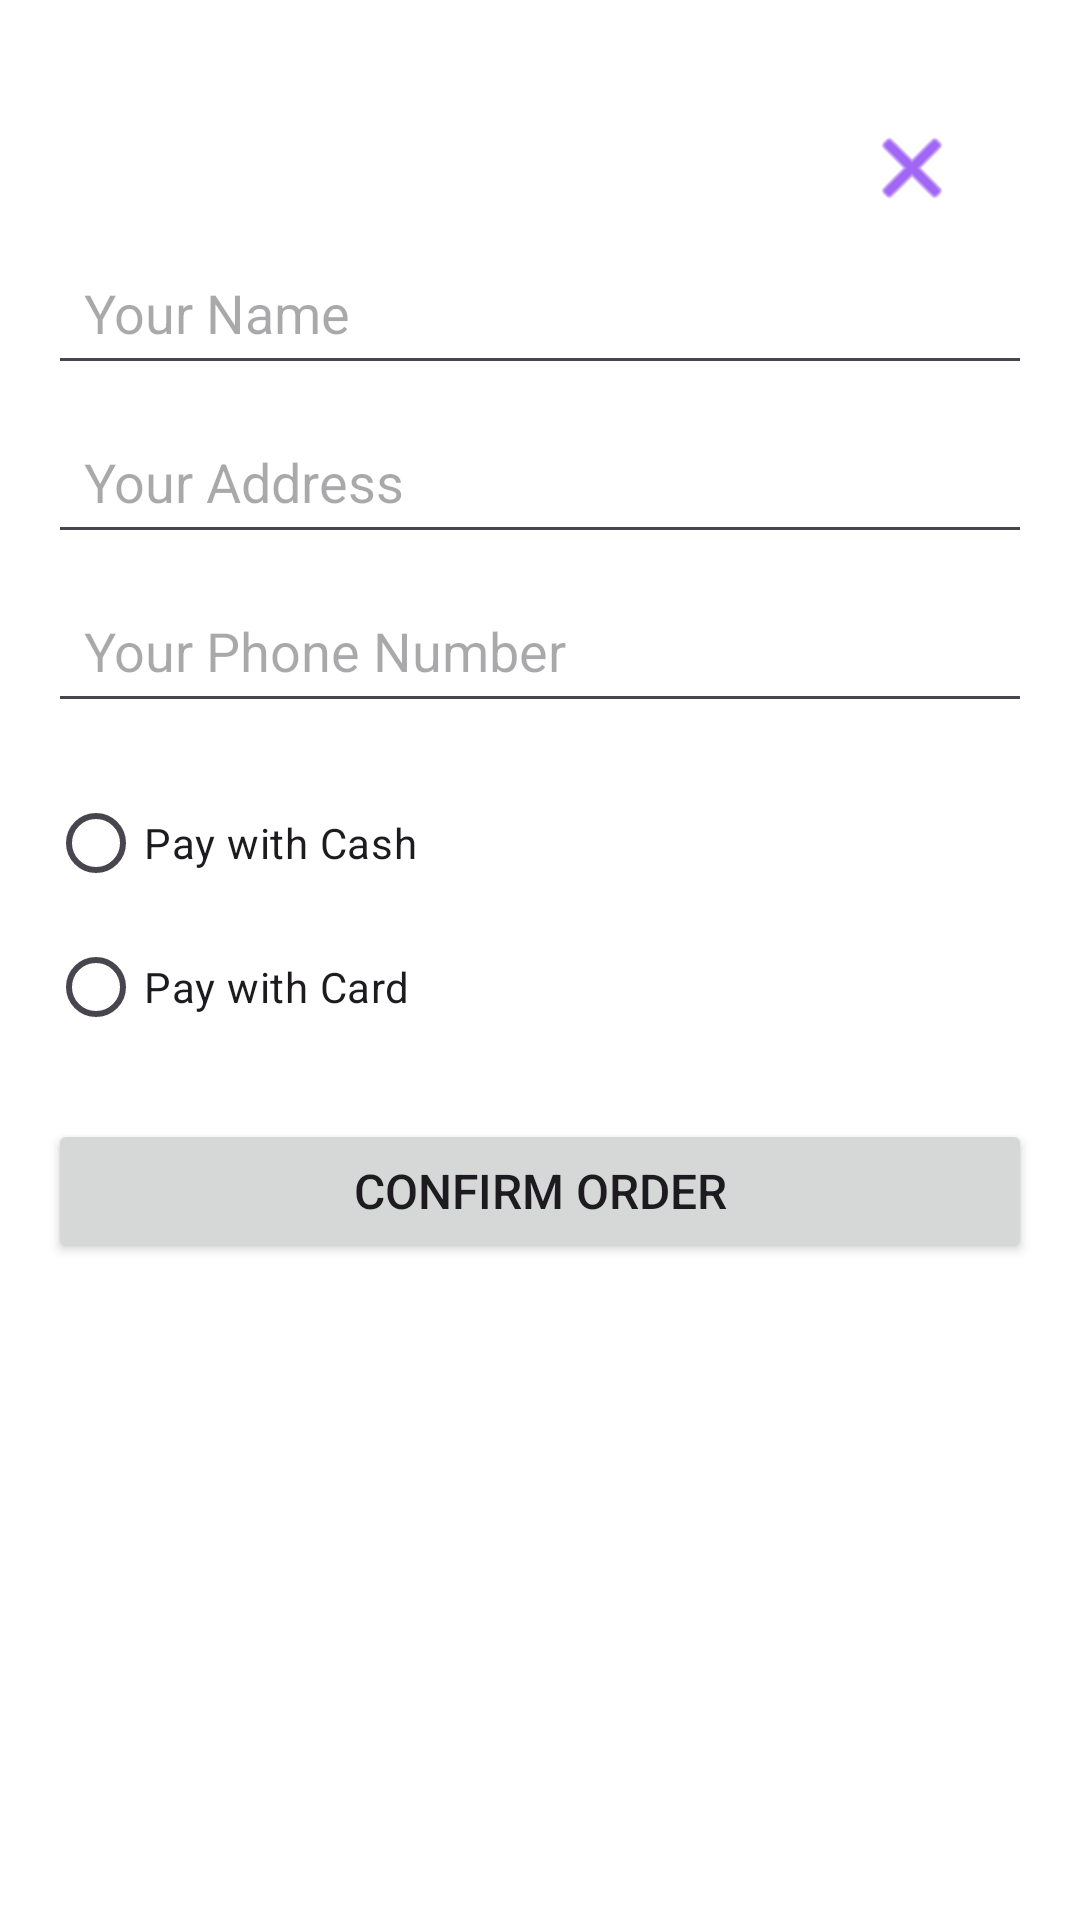

Point at icon controls on the screen. Image size 1080x1920, points as (x=x, y=y).
Close: (x=912, y=168)
